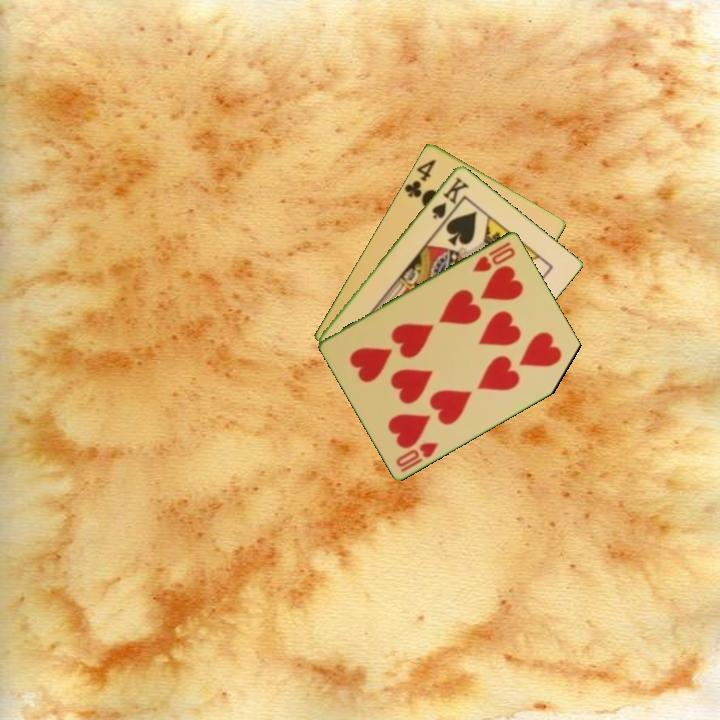10h: (469, 238, 518, 275), (392, 438, 441, 475)
4c: (401, 155, 439, 202)
Ks: (428, 173, 472, 222)
